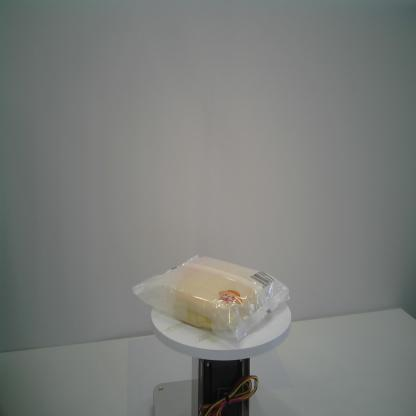Dessert: (131, 252, 290, 343)
